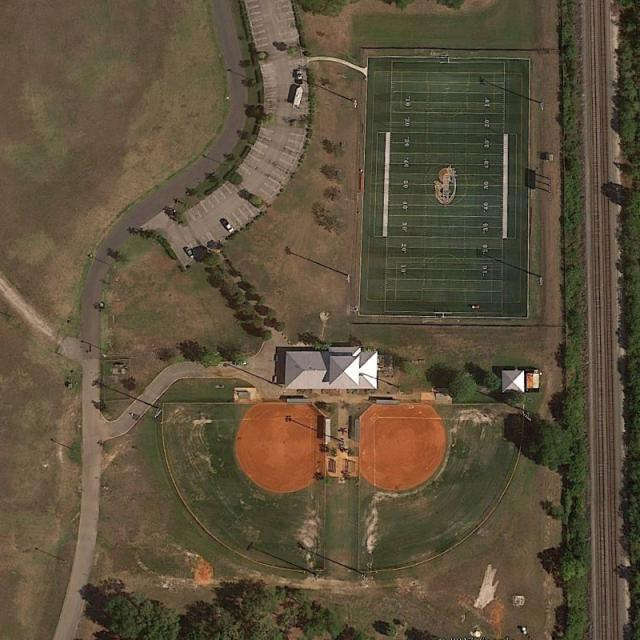vehicle: (293, 86, 302, 107), (221, 219, 234, 233), (183, 246, 194, 258), (294, 69, 302, 83)
